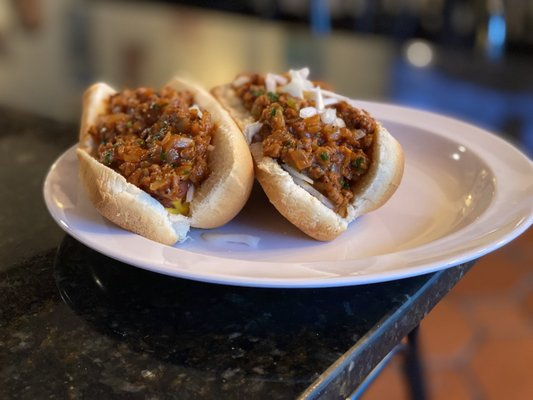burger: (210, 68, 405, 243), (76, 77, 255, 246)
curry: (18, 9, 533, 400)
